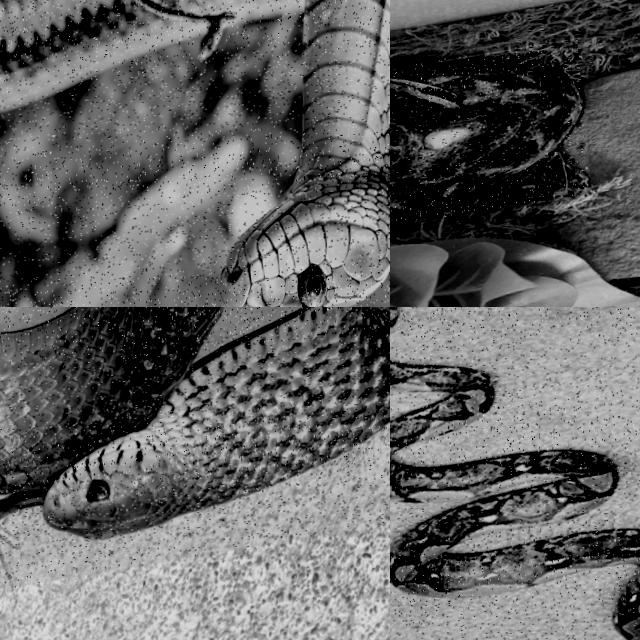Calloselasma rhodostoma: (390, 63, 581, 225)
Malayopython reticulatus: (390, 361, 639, 639)
Naja kaouthia: (0, 307, 389, 536)
Naja siamensis: (154, 0, 389, 306)
